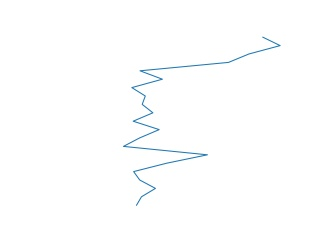crevasseRiverChannelBar: (118, 33, 284, 208)
